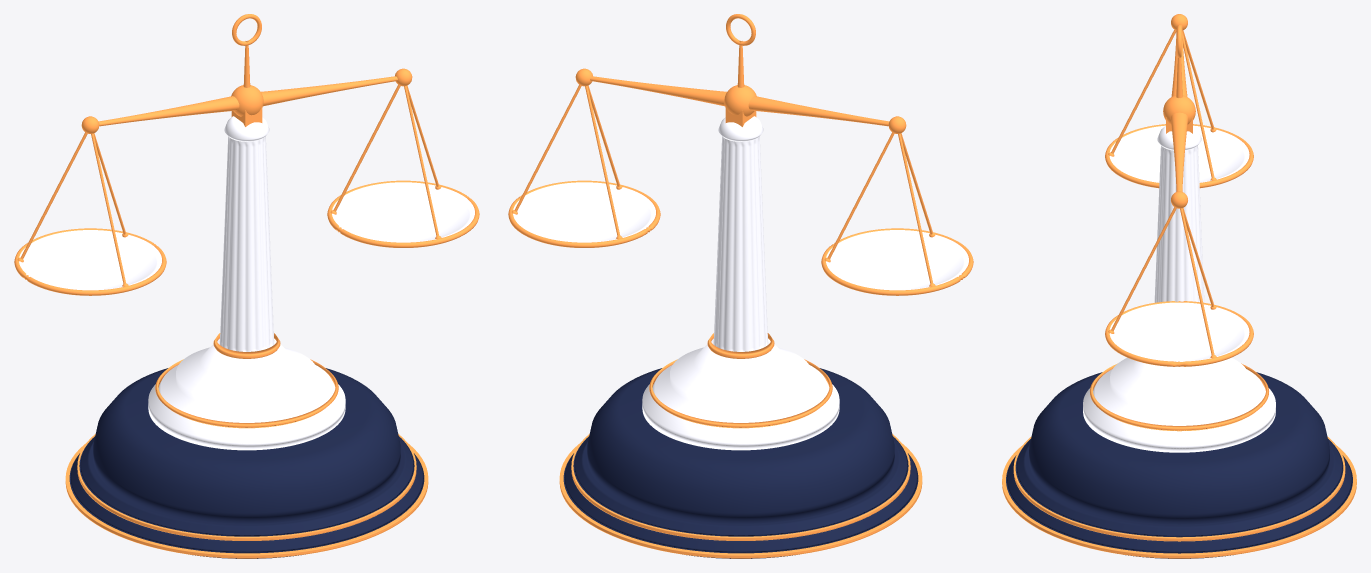
The model's file is about-me.glb.
3 views of the same model, side by side, from view 1: azimuth 30°, elevation 25°; view 2: azimuth 150°, elevation 25°; view 3: azimuth 270°, elevation 25° (orthographic). The views are drawn at different scales.
Parts seen in each view (by area): view 1: about-me; view 2: about-me; view 3: about-me.
Part boxes in pixels (x1,y1,x2,y2): about-me: (14, 14, 479, 558); about-me: (508, 14, 973, 558); about-me: (1002, 14, 1356, 558).
Size of the model in its own units: 1.97 by 2 by 1.39.
